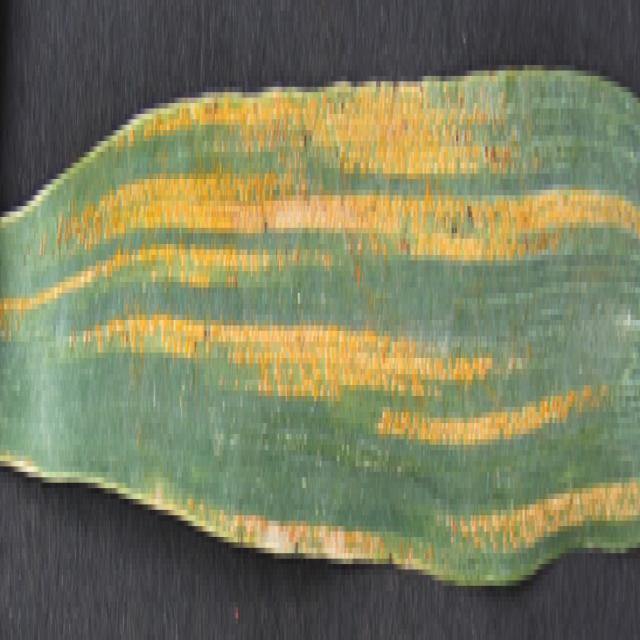leaf rust: (1, 76, 638, 569)
